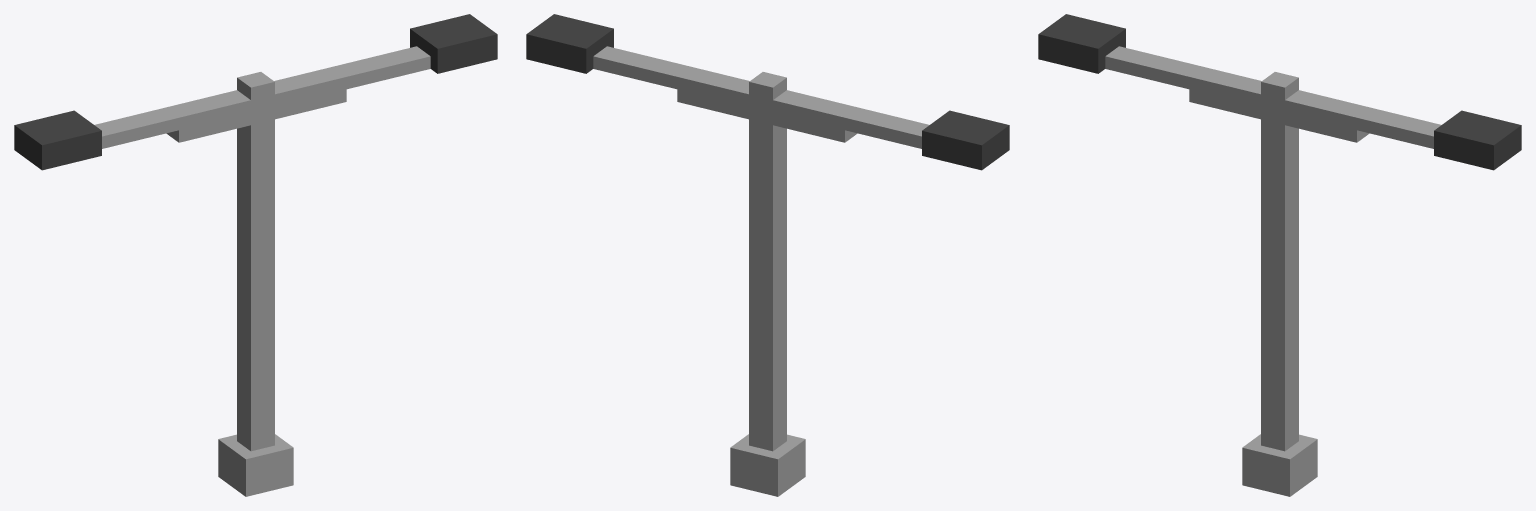
Rendered from obj_stlight1.obj.
3 views of the same model, side by side, from view 1: azimuth 30°, elevation 25°; view 2: azimuth 150°, elevation 25°; view 3: azimuth 330°, elevation 25° (orthographic).
Size of the model in its own units: 3.8 by 3.2 by 0.4.
Materials: 1 (1 with a texture image).
